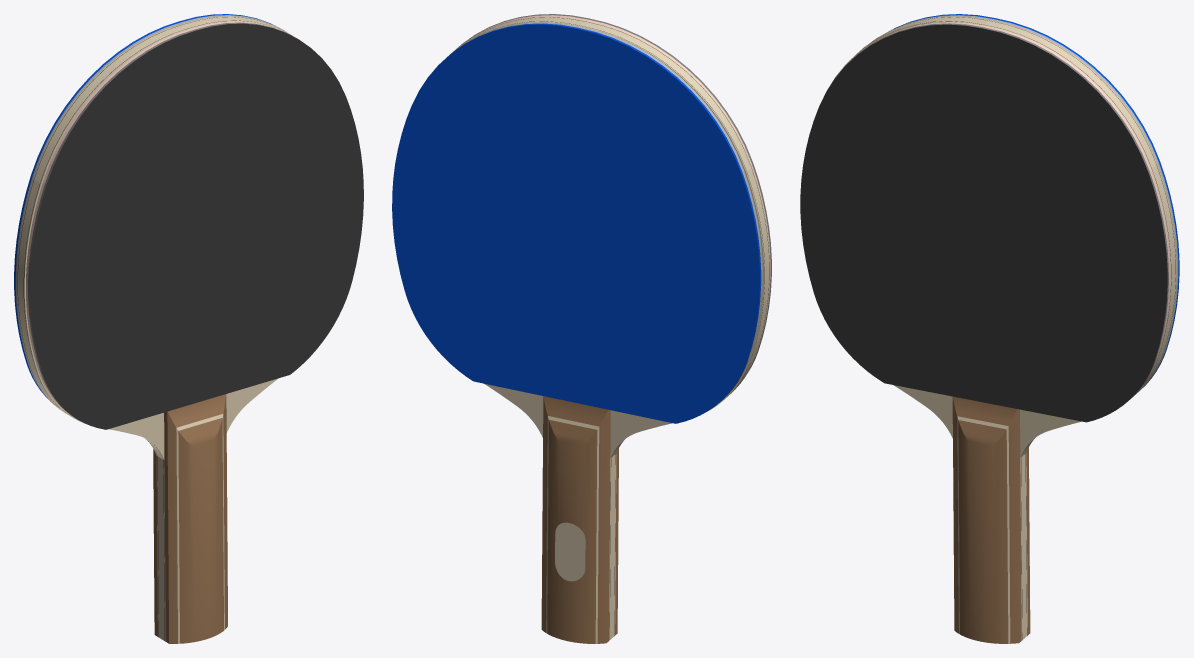
3 views of the same model, side by side, from view 1: azimuth 30°, elevation 25°; view 2: azimuth 150°, elevation 25°; view 3: azimuth 330°, elevation 25° (orthographic).
Visible parts, largest first — view 1: paddle.json; view 2: paddle.json; view 3: paddle.json.
Boxes of the visible parts, x1,y1,x2,y2 form: paddle.json: (14,14,363,643); paddle.json: (392,14,771,643); paddle.json: (800,14,1179,643).
Bounding box in the file's own units: 11.83 × 19.43 × 1.72.
